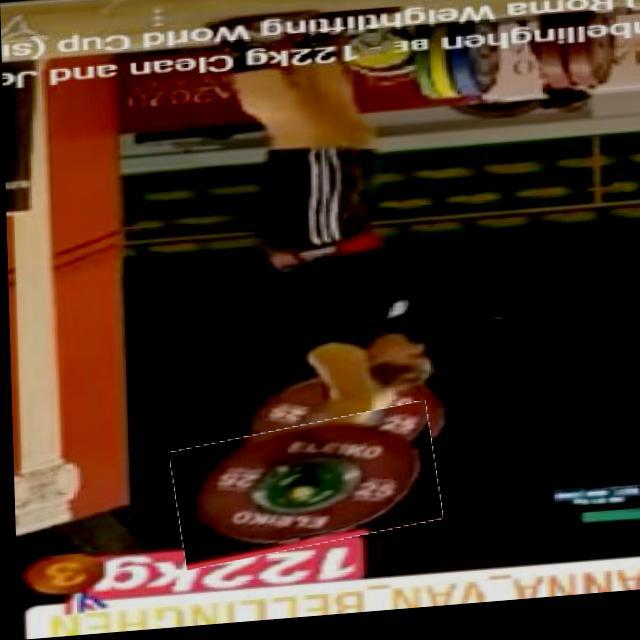barbell: (170, 415, 438, 567)
